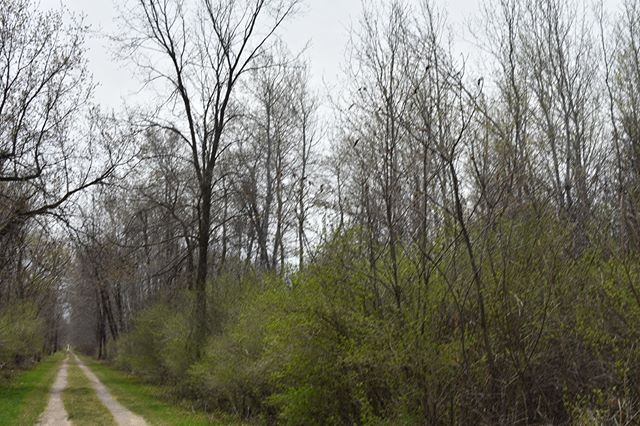vegetation: (1, 1, 640, 425)
